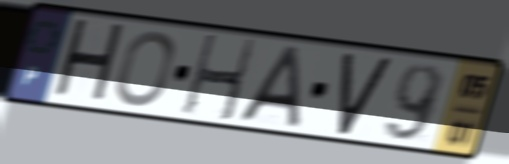9: (380, 61, 450, 143)
A: (236, 44, 303, 129)
H: (179, 32, 259, 125), (49, 15, 129, 108)
O: (113, 29, 177, 109)
V: (335, 52, 396, 138)
